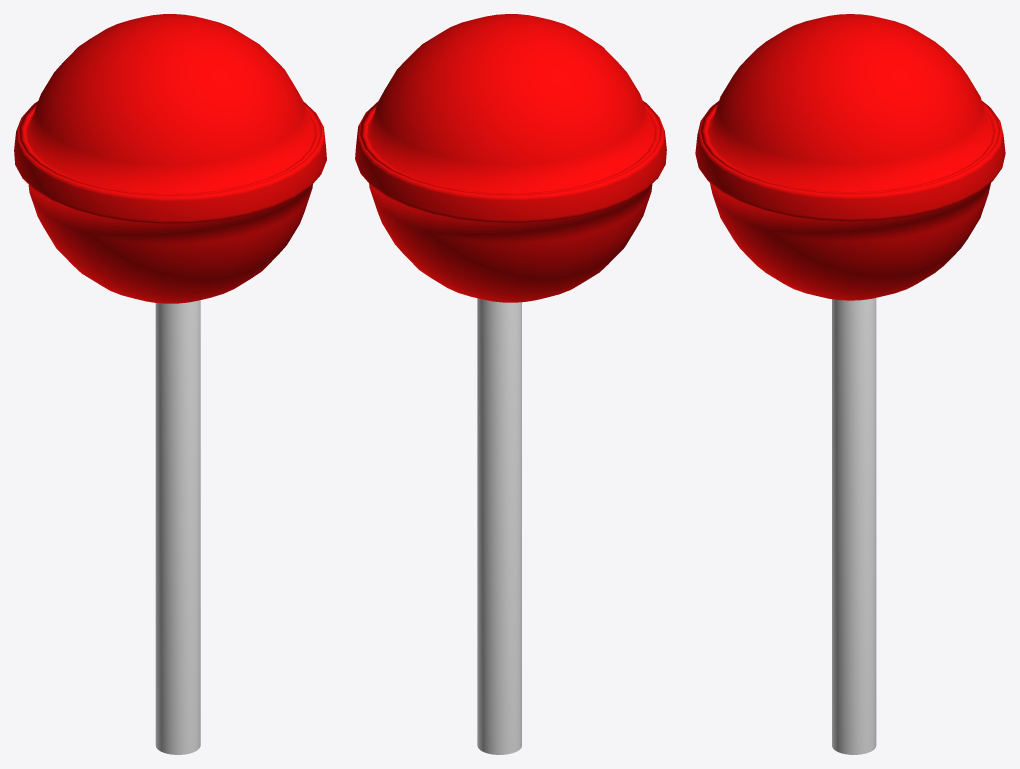
The model's file is cartoony_lolipop.glb.
3 views of the same model, side by side, from view 1: azimuth 30°, elevation 25°; view 2: azimuth 150°, elevation 25°; view 3: azimuth 270°, elevation 25° (orthographic).
Visible parts, largest first — view 1: Sphere_0, Cylinder_1; view 2: Sphere_0, Cylinder_1; view 3: Sphere_0, Cylinder_1.
Boxes of the visible parts, x1,y1,x2,y2 form: Sphere_0: (14,14,326,303); Cylinder_1: (155,300,200,754); Sphere_0: (355,14,666,302); Cylinder_1: (477,298,521,754); Sphere_0: (695,14,1005,300); Cylinder_1: (832,298,876,754).
Size of the model in its own units: 1.68 by 4.27 by 1.68.
